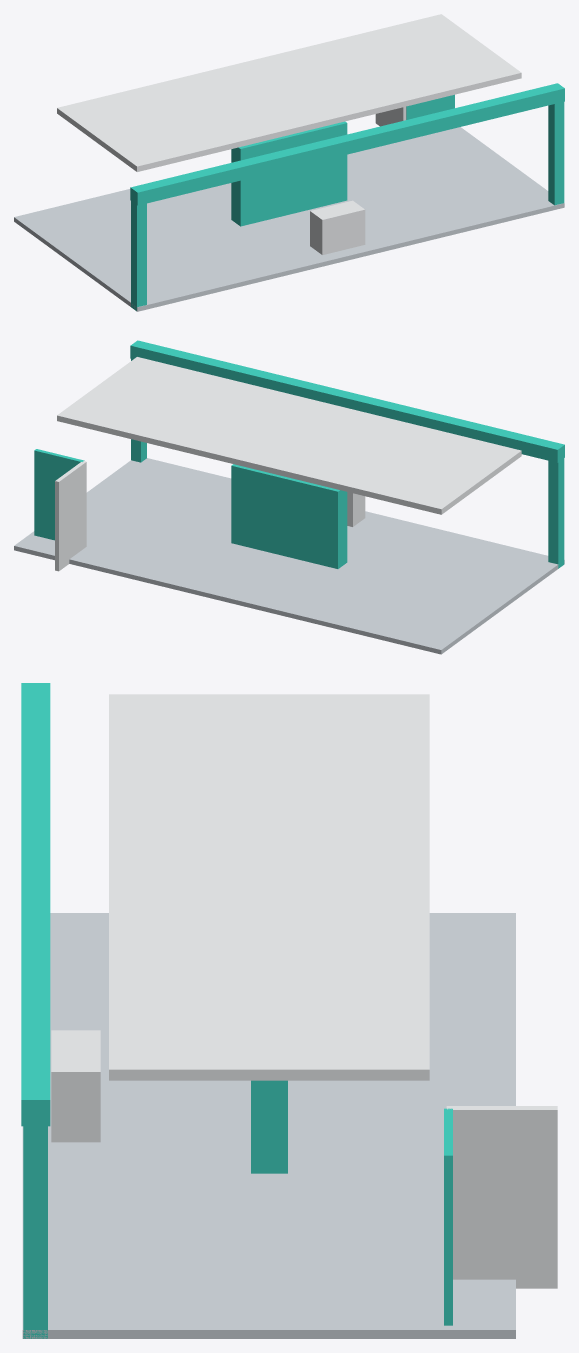
3 renders of one model, top to bottom at view 1: azimuth 30°, elevation 25°; view 2: azimuth 150°, elevation 25°; view 3: azimuth 270°, elevation 25°, orthographic. The views are drawn at different scales.
Visible parts, largest first — view 1: Exhibition Booth Concept; view 2: Exhibition Booth Concept; view 3: Exhibition Booth Concept.
Part boxes in pixels (left/top/right/bottom): Exhibition Booth Concept: left=14, top=14, right=564, bottom=311; Exhibition Booth Concept: left=14, top=340, right=564, bottom=654; Exhibition Booth Concept: left=21, top=683, right=557, bottom=1338.
Size of the model in its own units: 12 by 3.34 by 6.52.
